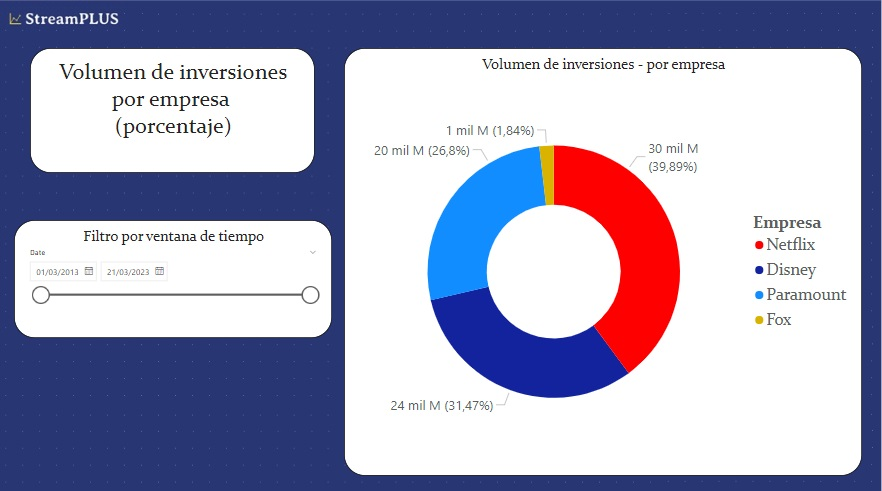

The page's visual inventory and layout, read from the dashboard file:
{"tool":"powerbi","page":{"name":"Volumen (porcentaje)","canvas":[1280,720],"ordinal":4},"visuals":[{"type":"image","box":[0,0,1280,720],"z":0},{"type":"slicer","title":"Filtro por ventana de tiempo","fields":{"Values":["Calendario.Date"]},"box":[25.9,322.6,457.9,169.9],"z":1000},{"type":"textbox","box":[49,74.9,410.4,180],"z":2000},{"type":"donutChart","title":"Volumen de inversiones - por empresa","fields":{"Y":["Sum(ok_SyP_empx4.Volume)"],"Category":["ok_SyP_empx4.Empresa"]},"box":[501.1,74.9,745.9,616.3],"z":3000}]}

Visuals, with their boxes in screenshot pixels (x1, y1, x2, y2), scaled from the page's 1280x720 canvas onto the 882x491 screenshot:
image: left=0, top=0, right=881, bottom=490
"Filtro por ventana de tiempo" slicer: left=18, top=220, right=333, bottom=336
textbox: left=34, top=51, right=317, bottom=174
"Volumen de inversiones - por empresa" donutChart: left=345, top=51, right=859, bottom=471
